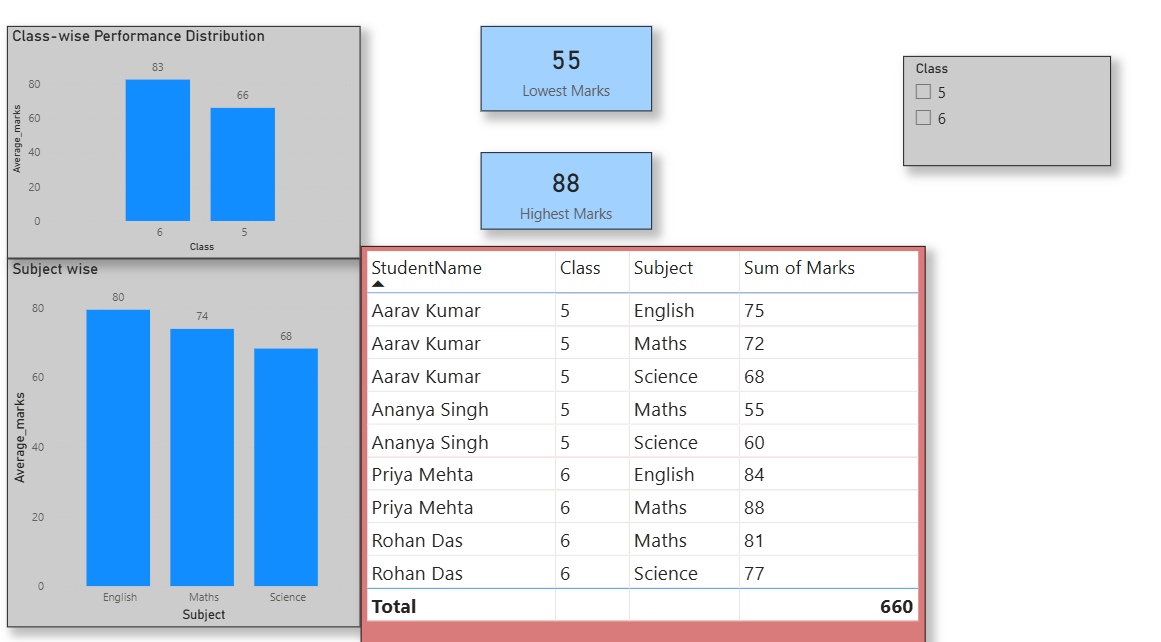

This screenshot's page, from the dashboard's own definition file:
{"tool":"powerbi","page":{"name":"Page Academic page","canvas":[1280,720],"ordinal":1},"visuals":[{"type":"card","fields":{"Values":["Report_Measures.Highest Marks"]},"box":[0,27.4,188,138.6],"z":0},{"type":"card","fields":{"Values":["Report_Measures.Lowest Marks"]},"box":[188,27.4,179.8,138.6],"z":1000},{"type":"columnChart","title":"Subject wise ","fields":{"Category":["academic_sources.Subject"],"Y":["academic_sources.Average_marks"]},"box":[9.6,281.3,388.3,404.8],"z":2000},{"type":"columnChart","title":"Class-wise Performance Distribution","fields":{"Category":["dim_class.Class"],"Y":["academic_sources.Average_marks"]},"box":[428.1,6.9,451.5,255.2],"z":4000},{"type":"tableEx","fields":{"Values":["Dim_students.StudentName","academic_sources.Class","academic_sources.Subject","academic_sources.Marks"]},"box":[408.9,281.3,603.8,404.8],"z":5001},{"type":"slicer","title":"Class","fields":{"Values":["academic_sources.Class"]},"box":[1052.5,262.1,227.8,120.8],"z":5002}]}

Visuals, with their boxes in screenshot pixels (x1, y1, x2, y2), scaled from the page's 1280x720 canvas onto the 1161x642 screenshot:
card - Report_Measures.Highest Marks: pyautogui.locateOnScreen(0, 24, 171, 148)
card - Report_Measures.Lowest Marks: pyautogui.locateOnScreen(171, 24, 334, 148)
"Subject wise " columnChart: pyautogui.locateOnScreen(9, 251, 361, 612)
"Class-wise Performance Distribution" columnChart: pyautogui.locateOnScreen(388, 6, 798, 234)
tableEx - Dim_students.StudentName x academic_sources.Class: pyautogui.locateOnScreen(371, 251, 919, 612)
"Class" slicer: pyautogui.locateOnScreen(955, 234, 1160, 341)
